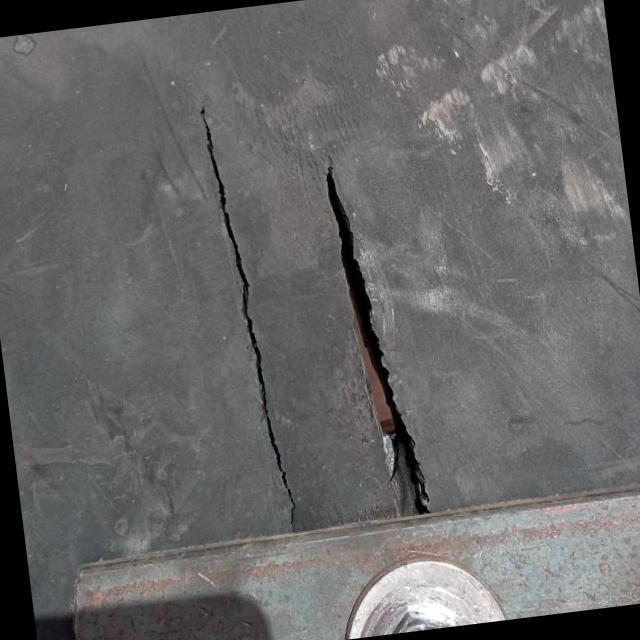Tear: (190, 94, 306, 541), (313, 154, 438, 523)
